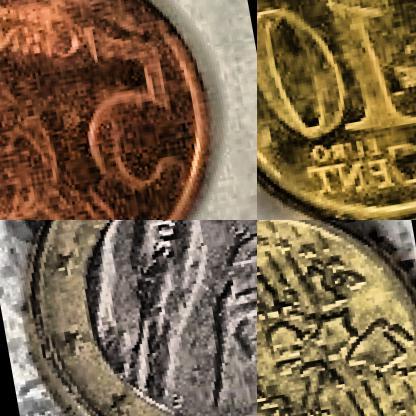coin: (0, 0, 241, 219), (0, 220, 256, 415), (257, 0, 415, 219), (257, 220, 415, 415)
